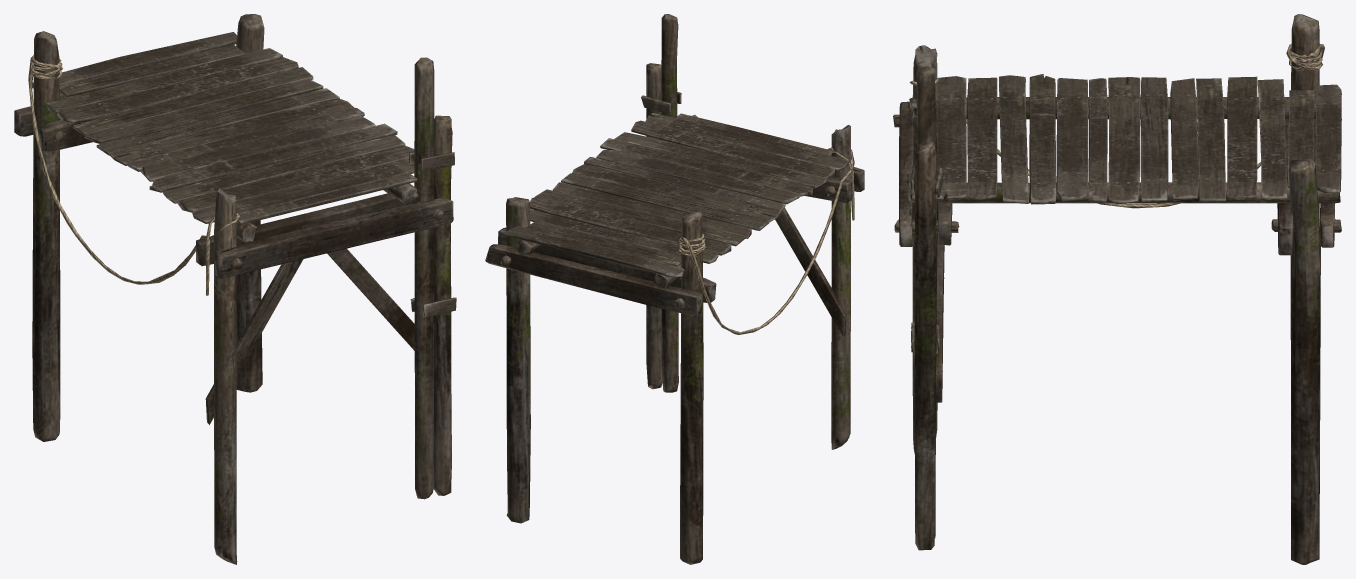
The picture shows the model from 3 angles, left to right: view 1: azimuth 30°, elevation 25°; view 2: azimuth 150°, elevation 25°; view 3: azimuth 270°, elevation 25°; orthographic projection. The views are drawn at different scales.
Visible parts, largest first — view 1: modular_wooden_pier_kit__c_lod1; view 2: modular_wooden_pier_kit__c_lod1; view 3: modular_wooden_pier_kit__c_lod1.
Boxes of the visible parts, x1=… form: modular_wooden_pier_kit__c_lod1: x1=14, y1=14, x2=456, y2=564; modular_wooden_pier_kit__c_lod1: x1=485, y1=14, x2=864, y2=564; modular_wooden_pier_kit__c_lod1: x1=893, y1=14, x2=1341, y2=564.
Bounding box in the file's own units: 2.47 × 4.26 × 3.51.
Materials: 2 (2 with a texture image).
